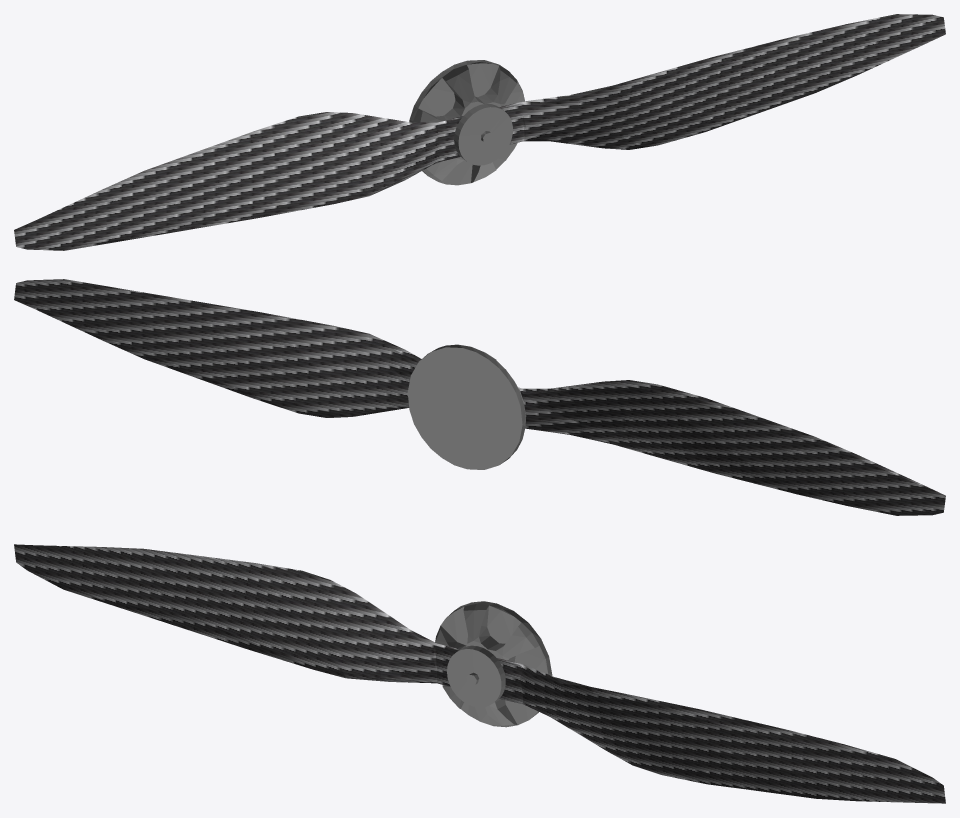
File: x500_prop_cw.obj
3 views of the same model, one above another, from view 1: azimuth 30°, elevation 25°; view 2: azimuth 150°, elevation 25°; view 3: azimuth 330°, elevation 25° (orthographic).
Parts seen in each view (by area): view 1: carbon_light, grey; view 2: carbon_light, grey; view 3: carbon_light, grey.
Boxes of the visible parts, bbox=[...] form: carbon_light: bbox=[14, 14, 945, 250]; grey: bbox=[409, 60, 524, 185]; carbon_light: bbox=[14, 279, 945, 515]; grey: bbox=[407, 344, 525, 469]; carbon_light: bbox=[14, 544, 945, 803]; grey: bbox=[435, 601, 552, 727].
Size of the model in its own units: 0.3379 by 0.0417 by 0.0167.
2 materials, 1 textured.
